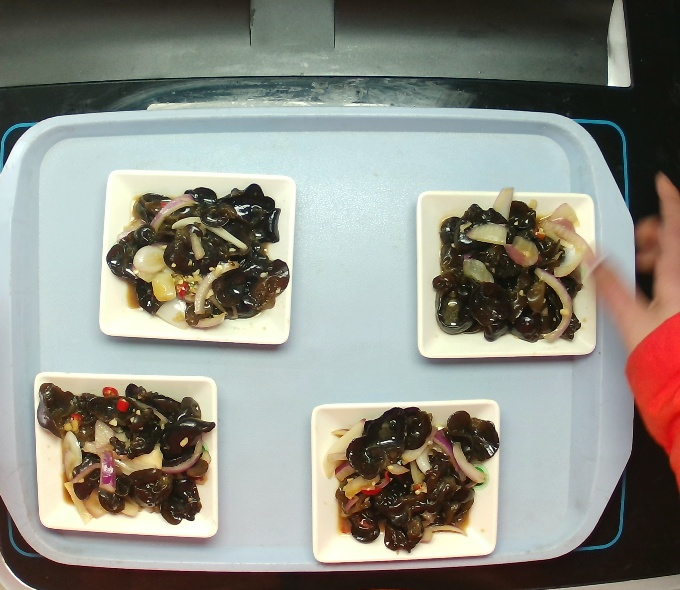wcq-LiangBanMuEr: (21, 377, 227, 533), (110, 178, 293, 333), (327, 403, 501, 549), (430, 195, 595, 343)
